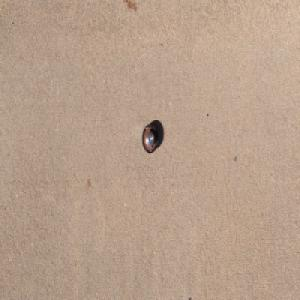FuelCap: (141, 122, 158, 154)
